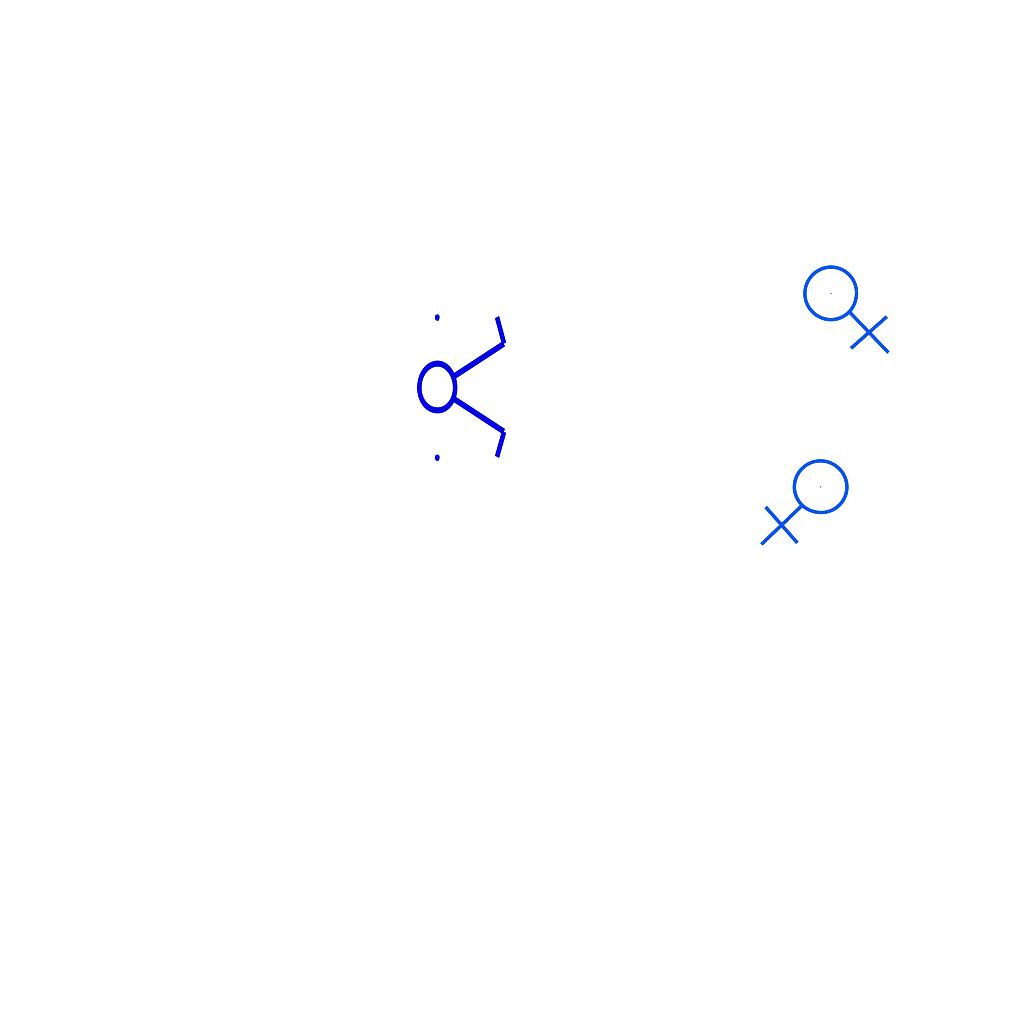Elektroanschluss_allgemein_230V_Geraeteanschlussdose_230V: (801, 256, 895, 355), (759, 457, 858, 551)
Serienschalter: (415, 302, 511, 470)
